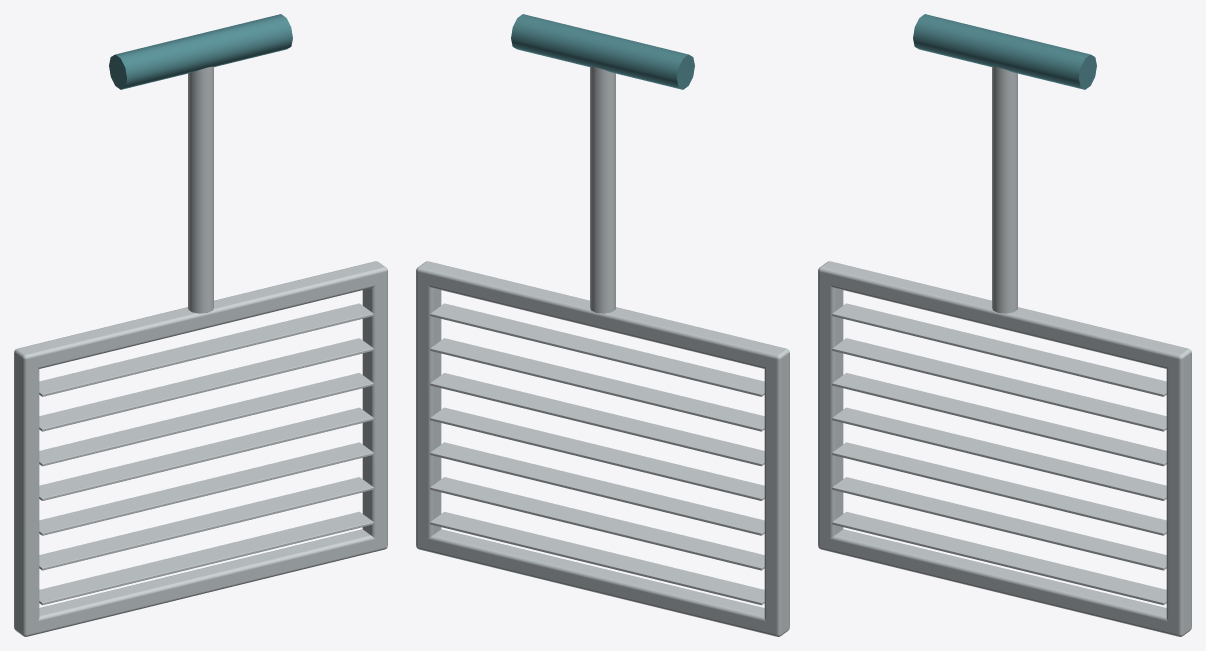
Rendered from cheesemaking-and-dairy-cellar-horizontal-curd-knife-5e14cc56__30859.glb.
3 views of the same model, side by side, from view 1: azimuth 30°, elevation 25°; view 2: azimuth 150°, elevation 25°; view 3: azimuth 330°, elevation 25° (orthographic).
Parts seen in each view (by area): view 1: horizontal-curd-knife; view 2: horizontal-curd-knife; view 3: horizontal-curd-knife.
Boxes of the visible parts, <box> form: horizontal-curd-knife: <box>14,14,387,636</box>; horizontal-curd-knife: <box>416,14,789,636</box>; horizontal-curd-knife: <box>818,14,1191,636</box>.
Bounding box in the file's own units: 0.44 × 0.6381 × 0.038.
